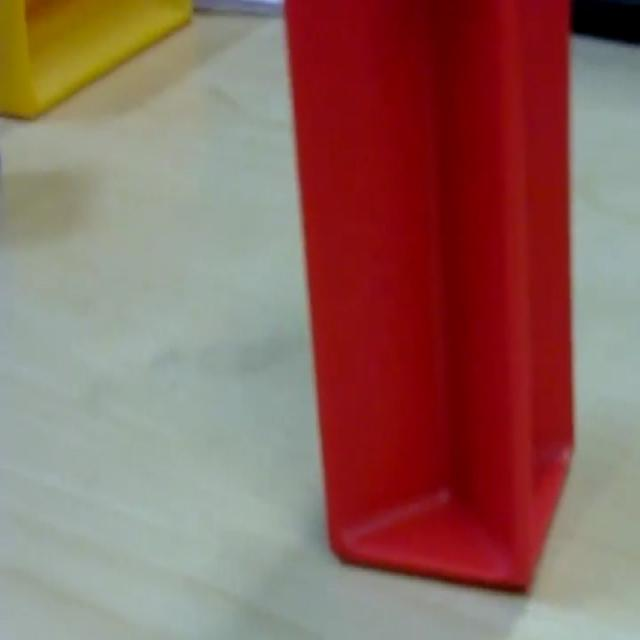red_block: (281, 0, 576, 593)
yellow_block: (0, 0, 194, 120)
